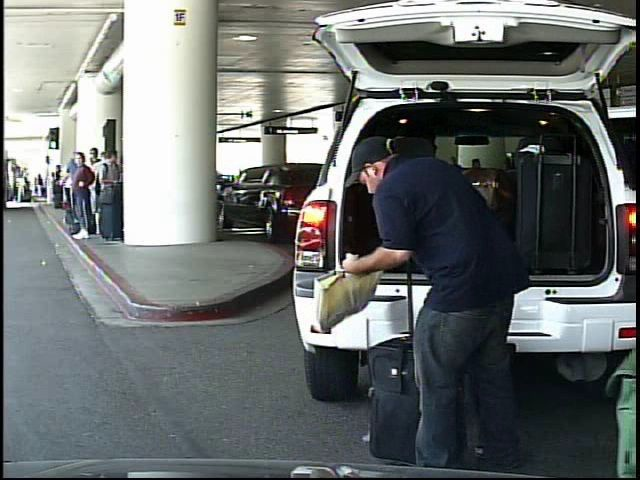person: (332, 115, 528, 480), (17, 174, 28, 205), (35, 171, 46, 198)
